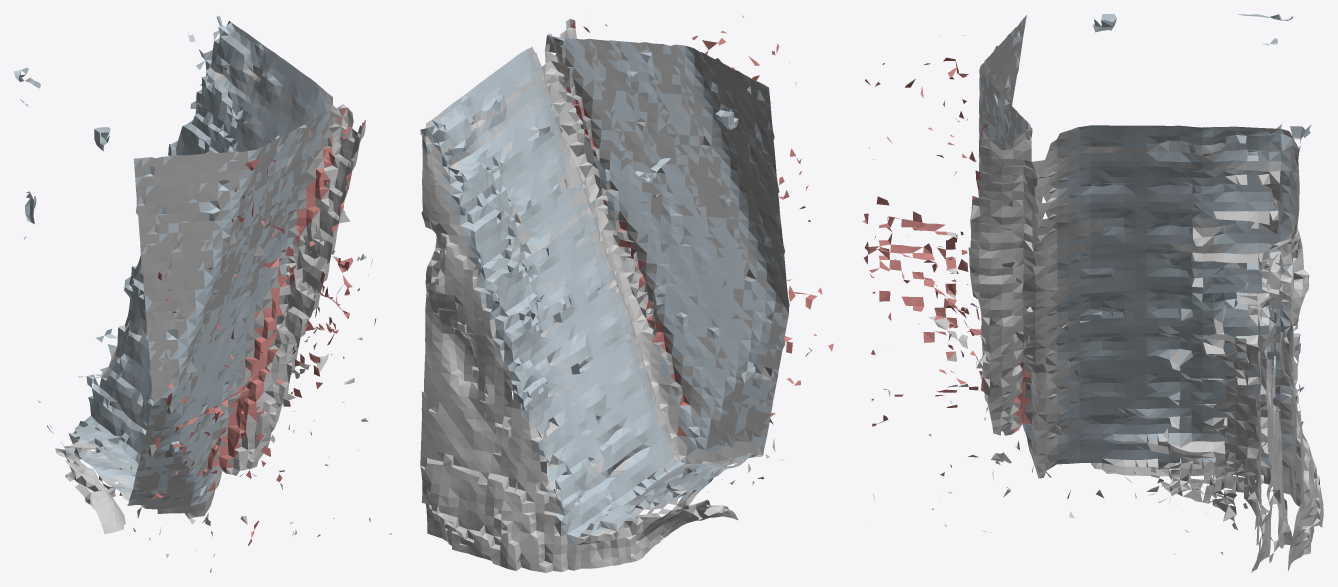
The model's file is B0-뜬면-1__lt_dynnow_ALS_s0__before.glb.
3 renders of one model, left to right at view 1: azimuth 30°, elevation 25°; view 2: azimuth 150°, elevation 25°; view 3: azimuth 270°, elevation 25°, orthographic. The views are drawn at different scales.
Bounding box in the file's own units: 19.95 × 35.45 × 33.12.
